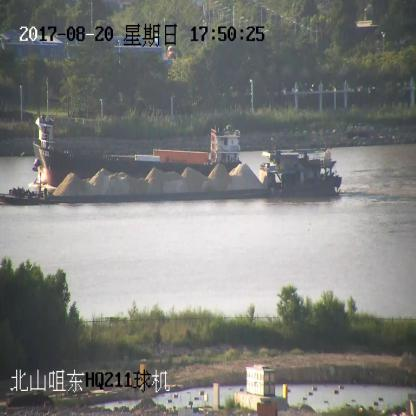Bulk Carrier: (33, 78, 242, 189)
